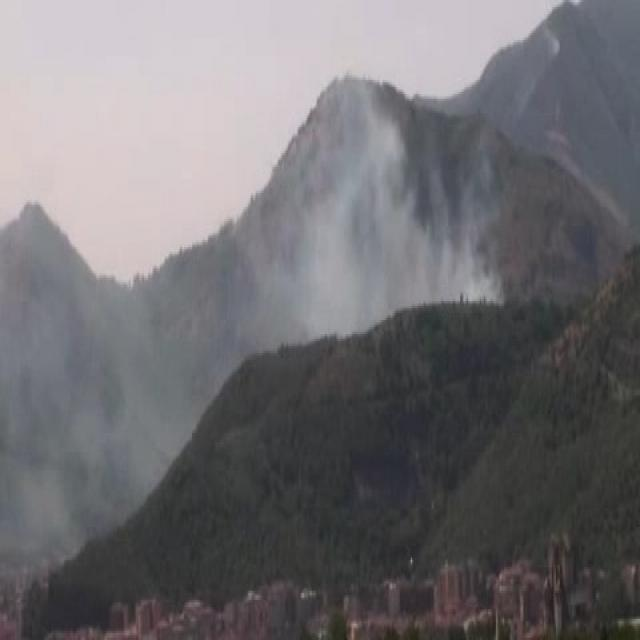smoke: (271, 125, 478, 338), (24, 292, 171, 483)
